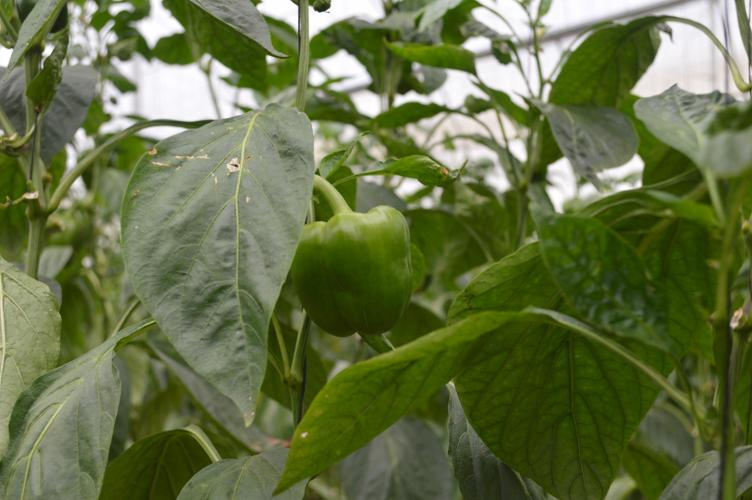BellPepper: (280, 212, 421, 343)
